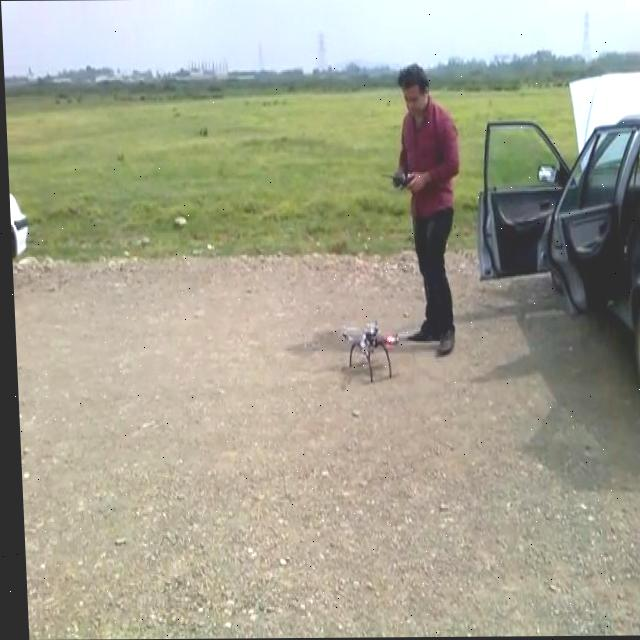drone: (336, 320, 409, 378)
